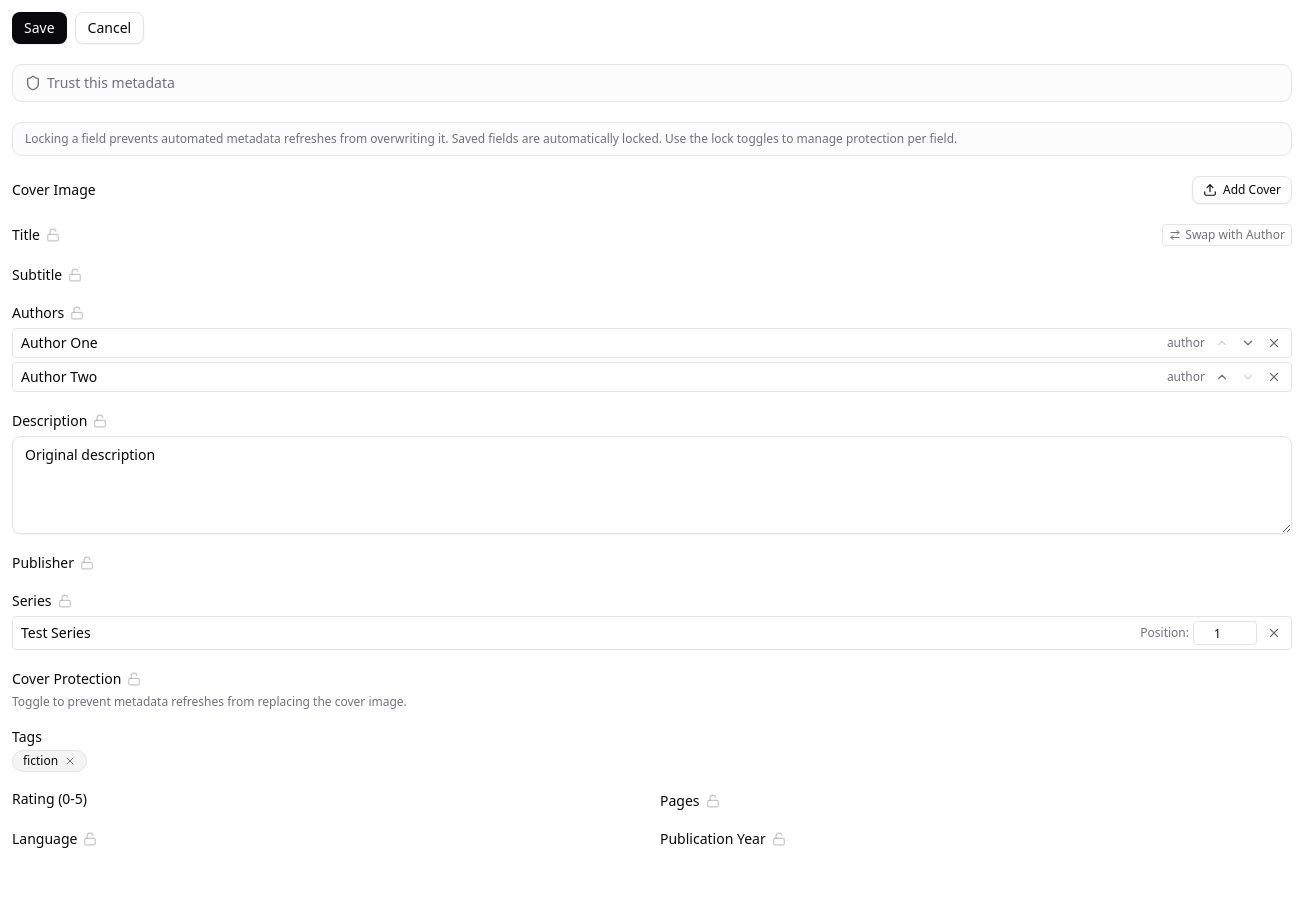
BookEditForm › author remove button removes author from the list
This screenshot has width=1304, height=912.
Note: Remove the first author
Click the button named "Remove author" in the row of "Author One".
click(1274, 343)  # box [1265, 334, 1283, 352]
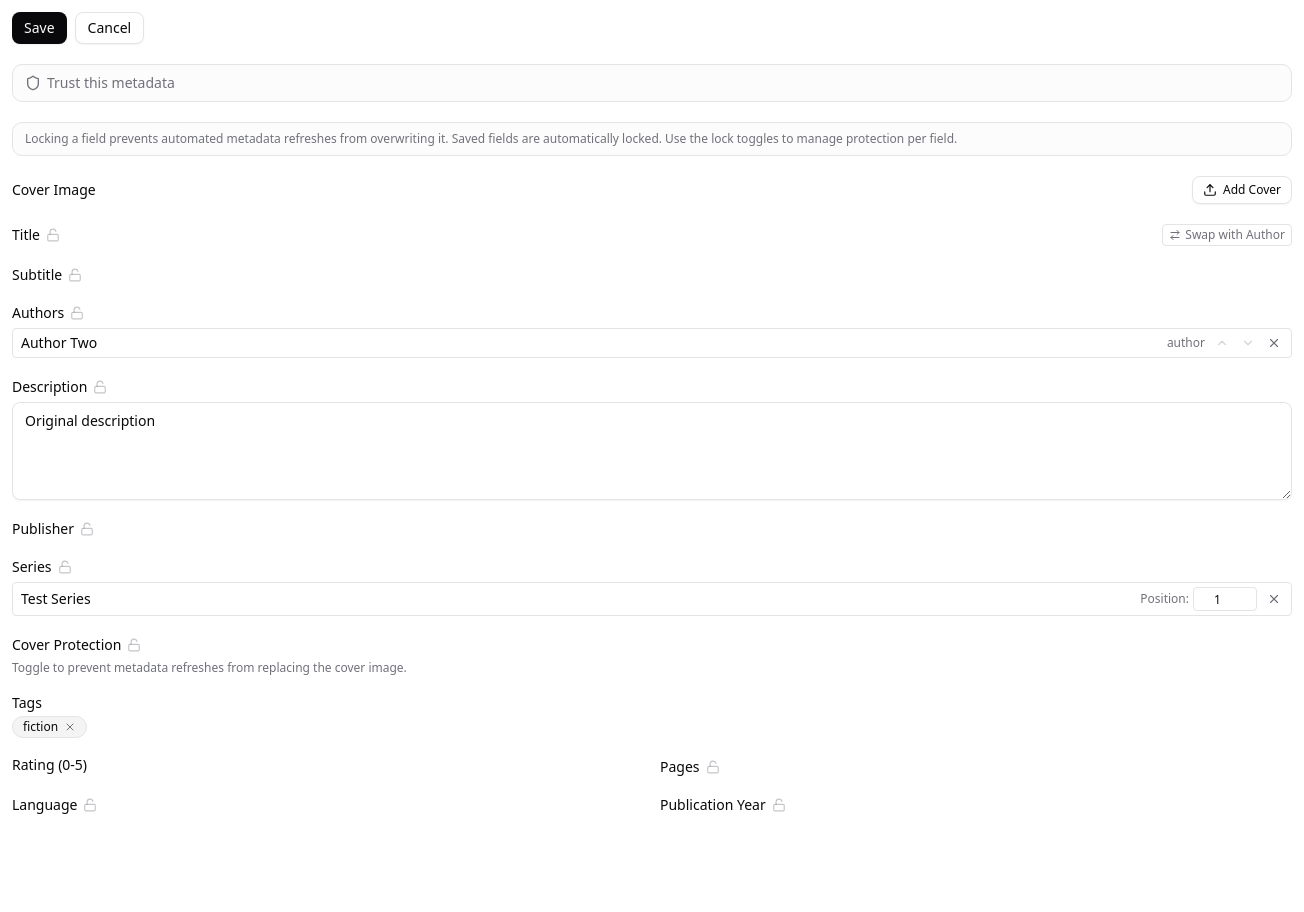
Expected: the text "Author Two" is shown, [21, 333, 97, 352]
Result: the text "Author One" is gone
